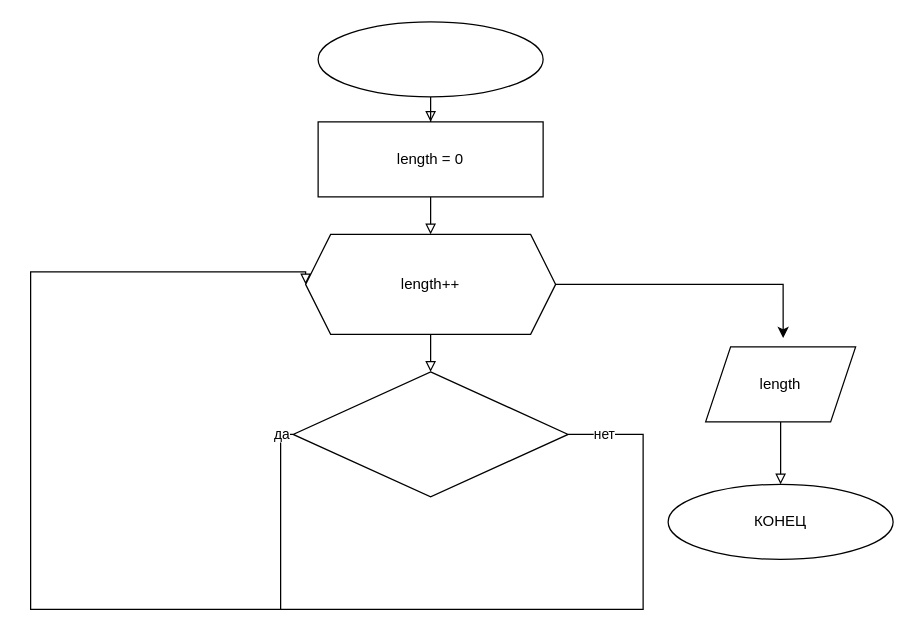
The diagram is 915 pixels wide and 641 high, and some of its shapes have lost their labels. Each missing label, with the centre of its shape:
str[length] != '\0': point 430,434
НАЧАЛО: point 430,59
